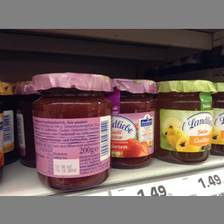jam: (31, 73, 115, 190), (157, 80, 214, 163), (111, 77, 159, 168)
